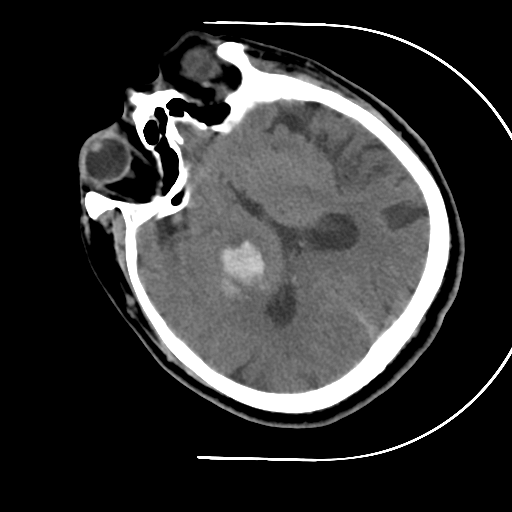a: (198, 219, 279, 325)
